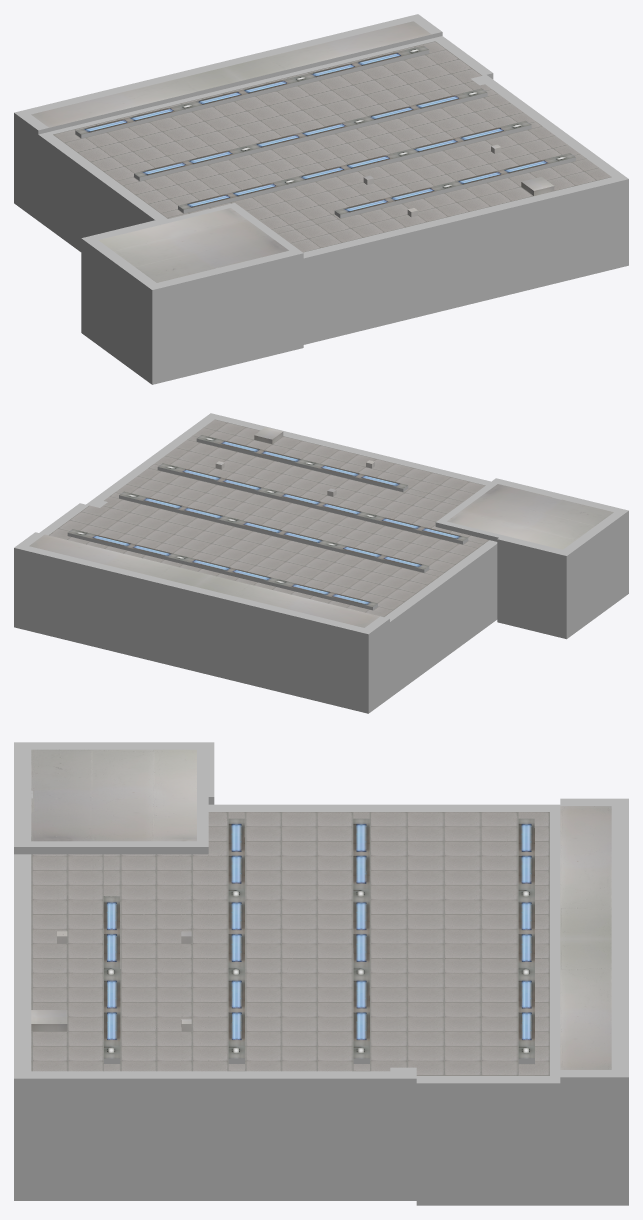
The model's file is drones_lab.fbx.
3 views of the same model, one above another, from view 1: azimuth 30°, elevation 25°; view 2: azimuth 150°, elevation 25°; view 3: azimuth 270°, elevation 25° (orthographic). The views are drawn at different scales.
Parts seen in each view (by area): view 1: extrior walls, ceiling, wall9, wall3, lamps; view 2: extrior walls, ceiling, wall9, lamps, wall3; view 3: ceiling, extrior walls, wall9, lamps, wall3.
Part boxes in pixels (x1,y1,x2,y2): extrior walls: (14,14,628,384); ceiling: (53,41,611,252); wall9: (31,21,554,282); wall3: (49,34,575,218); lamps: (76,45,575,214); extrior walls: (14,413,628,713); ceiling: (49,419,489,616); wall9: (29,427,613,627); lamps: (68,435,467,606); wall3: (67,438,468,610); ceiling: (31,812,549,1075); extrior walls: (14,742,628,1205); wall9: (31,749,611,1069); lamps: (103,818,534,1058); wall3: (103,812,560,1075).
Bounding box in the file's own units: 1057 × 1356 × 254.
